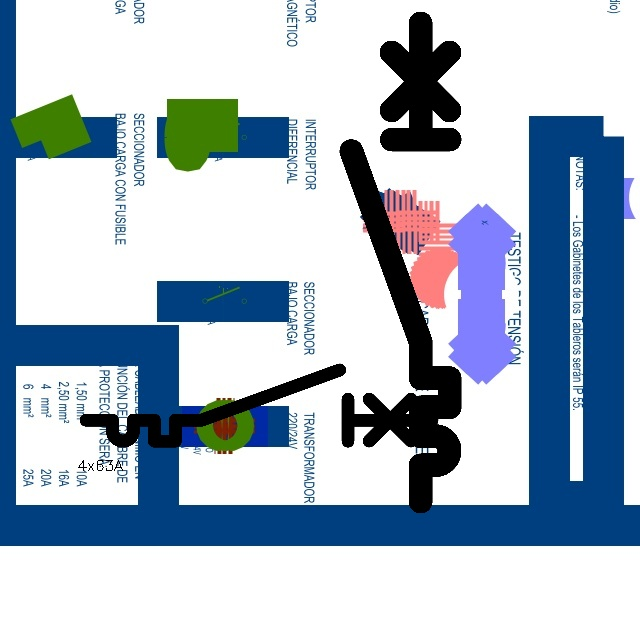interruptor_termomagnetico: (339, 11, 462, 514), (77, 361, 441, 450)
